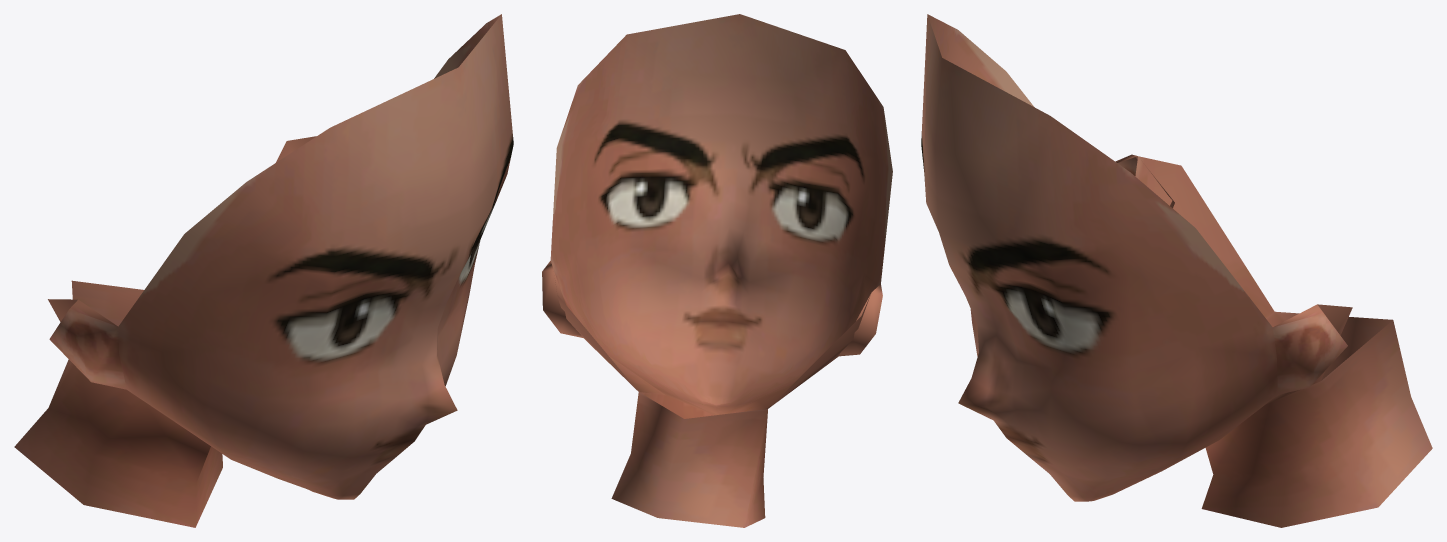
Rendered from MFace_0.glb.
The picture shows the model from 3 angles, left to right: view 1: azimuth 30°, elevation 25°; view 2: azimuth 150°, elevation 25°; view 3: azimuth 270°, elevation 25°; orthographic projection. The views are drawn at different scales.
Parts seen in each view (by area): view 1: #BFACE.003; view 2: #BFACE.003; view 3: #BFACE.003.
Boxes of the visible parts, box(x1,y1,x2,y2) form: #BFACE.003: box(14, 14, 513, 527); #BFACE.003: box(542, 14, 892, 527); #BFACE.003: box(921, 14, 1432, 527).
Size of the model in its own units: 0.0246 by 0.0293 by 0.0265.
1 material, 1 textured.
